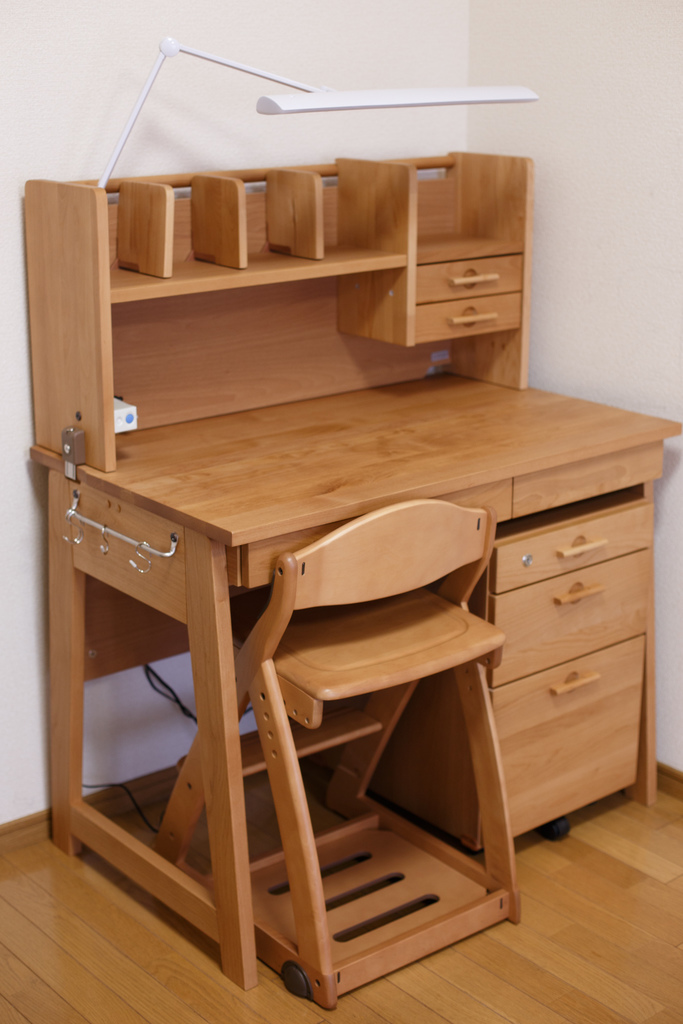cabinet door: (499, 649, 640, 794), (503, 565, 648, 649), (503, 489, 653, 550), (421, 242, 522, 292), (415, 289, 520, 337)
handle: (548, 658, 601, 704), (557, 523, 613, 558), (553, 582, 607, 614), (450, 300, 499, 330), (448, 263, 500, 287)
